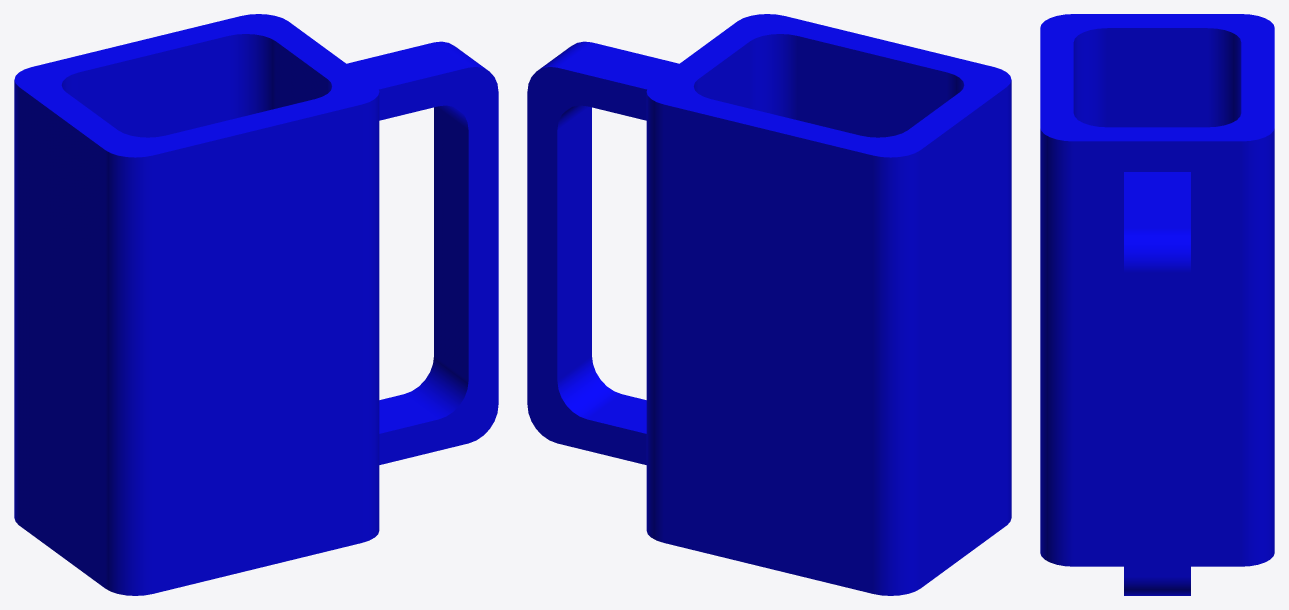
Rendered from cup_original.obj.
3 views of the same model, side by side, from view 1: azimuth 30°, elevation 25°; view 2: azimuth 150°, elevation 25°; view 3: azimuth 270°, elevation 25° (orthographic). The views are drawn at different scales.
Visible parts, largest first — view 1: Root|CUP_VISUALIZE_(Default)|Merged_Parts|Part; view 2: Root|CUP_VISUALIZE_(Default)|Merged_Parts|Part; view 3: Root|CUP_VISUALIZE_(Default)|Merged_Parts|Part.
Part boxes in pixels (<box>): Root|CUP_VISUALIZE_(Default)|Merged_Parts|Part: <box>14,14,498,595</box>; Root|CUP_VISUALIZE_(Default)|Merged_Parts|Part: <box>527,14,1011,595</box>; Root|CUP_VISUALIZE_(Default)|Merged_Parts|Part: <box>1040,14,1274,595</box>.
Bounding box in the file's own units: 0.14 × 0.14 × 0.07.
